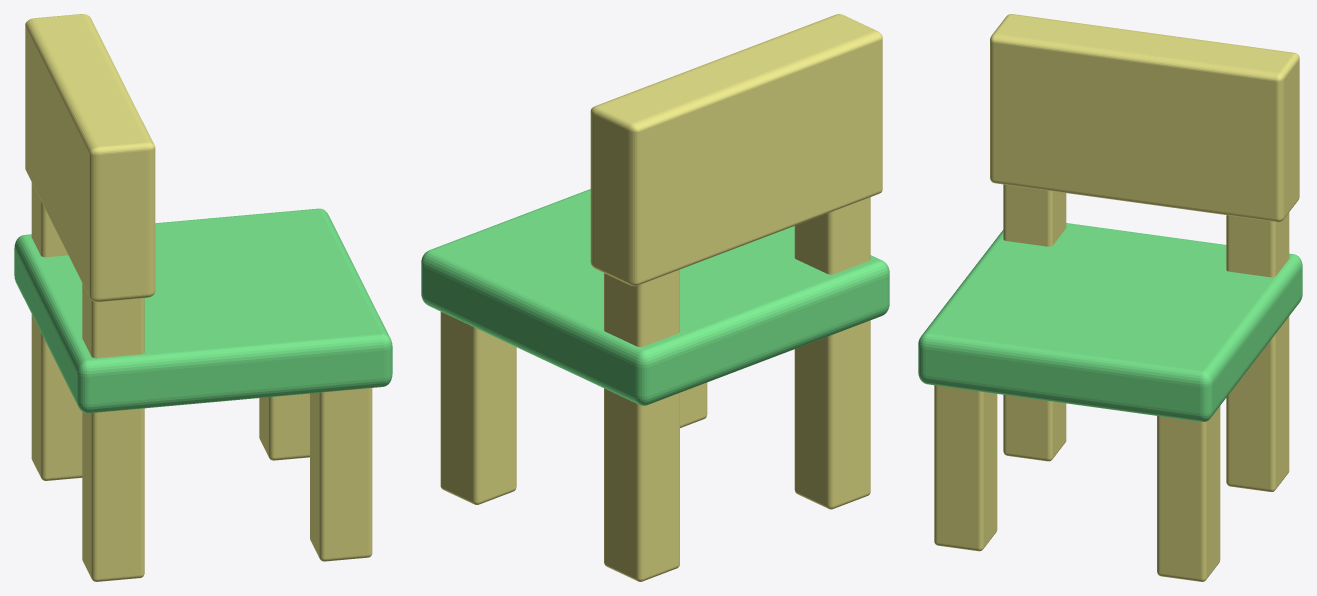
File: chair.fbx
The picture shows the model from 3 angles, left to right: view 1: azimuth 30°, elevation 25°; view 2: azimuth 150°, elevation 25°; view 3: azimuth 270°, elevation 25°; orthographic projection. The views are drawn at different scales.
Visible parts, largest first — view 1: Cube.005, Cube.006, Cube.011, Cube.012, Cube.008, Cube.010; view 2: Cube.006, Cube.005, Cube.008, Cube.011, Cube.010, Cube.012; view 3: Cube.005, Cube.006, Cube.008, Cube.010, Cube.012, Cube.011.
Part boxes in pixels (box(x1,y1,x2,y2)): Cube.005: box(14, 208, 392, 413); Cube.006: box(25, 14, 155, 301); Cube.011: box(82, 283, 144, 581); Cube.012: box(310, 388, 372, 561); Cube.008: box(31, 182, 82, 480); Cube.010: box(259, 393, 309, 460); Cube.006: box(590, 14, 882, 286); Cube.005: box(421, 189, 889, 405); Cube.008: box(604, 269, 679, 581); Cube.011: box(794, 197, 870, 509); Cube.010: box(440, 312, 516, 504); Cube.012: box(680, 382, 707, 427); Cube.005: box(918, 223, 1302, 421); Cube.006: box(990, 14, 1299, 221); Cube.008: box(1226, 212, 1289, 491); Cube.010: box(1157, 406, 1220, 581); Cube.012: box(934, 385, 997, 551); Cube.011: box(1003, 184, 1066, 461).
Size of the model in its own units: 0.8806 by 1.07 by 0.8806.
